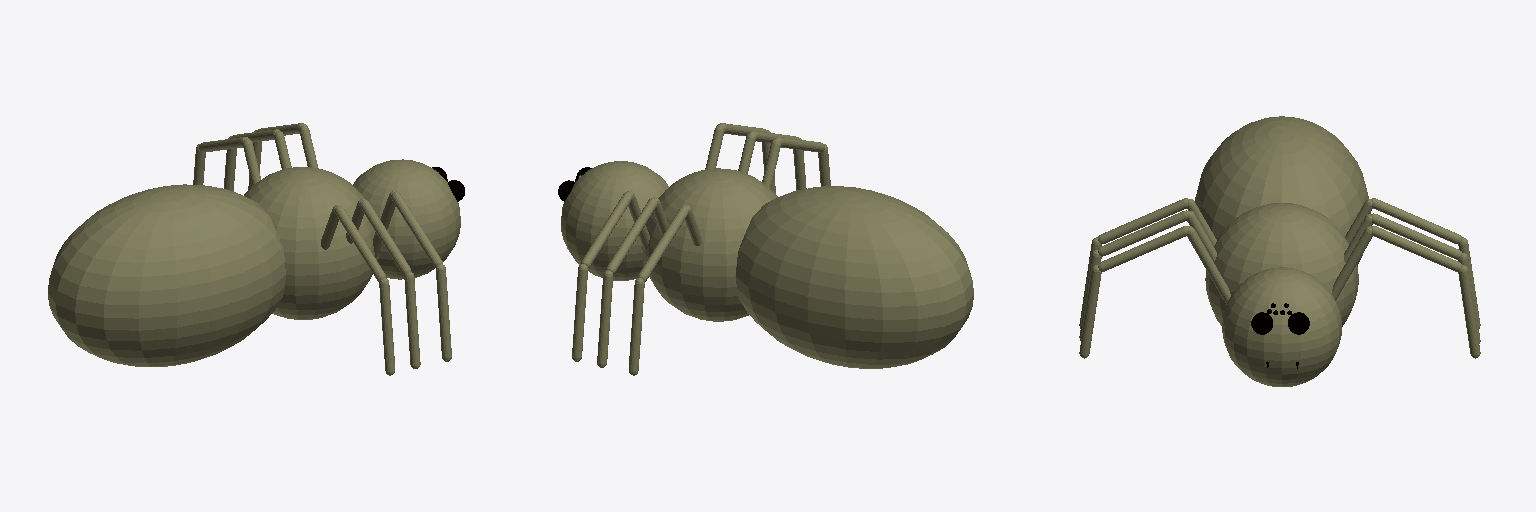
3 renders of one model, left to right at view 1: azimuth 30°, elevation 25°; view 2: azimuth 150°, elevation 25°; view 3: azimuth 270°, elevation 25°, orthographic.
Parts seen in each view (by area): view 1: pSphere3, pSphere2, pSphere1, pCylinder8, pCylinder7; view 2: pSphere3, pSphere2, pSphere1, pCylinder7, pCylinder8; view 3: pSphere3, pSphere1, pSphere2, pCylinder8, pCylinder7.
Boxes of the visible parts, x1=… form: pSphere3: x1=48, y1=184, x2=285, y2=366; pSphere2: x1=244, y1=167, x2=378, y2=319; pSphere1: x1=353, y1=159, x2=460, y2=279; pCylinder8: x1=321, y1=191, x2=451, y2=375; pCylinder7: x1=193, y1=123, x2=317, y2=191; pSphere3: x1=736, y1=186, x2=973, y2=368; pSphere2: x1=642, y1=168, x2=777, y2=321; pSphere1: x1=561, y1=161, x2=668, y2=280; pCylinder7: x1=572, y1=191, x2=701, y2=375; pCylinder8: x1=705, y1=123, x2=830, y2=192; pSphere3: x1=1195, y1=116, x2=1370, y2=266; pSphere1: x1=1222, y1=267, x2=1341, y2=386; pSphere2: x1=1205, y1=203, x2=1358, y2=326; pCylinder8: x1=1079, y1=198, x2=1230, y2=358; pCylinder7: x1=1332, y1=198, x2=1480, y2=358.
Size of the model in its own units: 7.65 by 2.97 by 6.67.
4 materials, 2 textured.